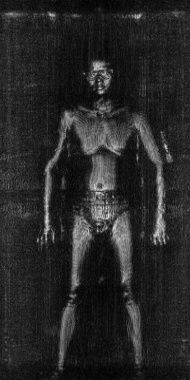gun: (160, 128, 176, 169)
